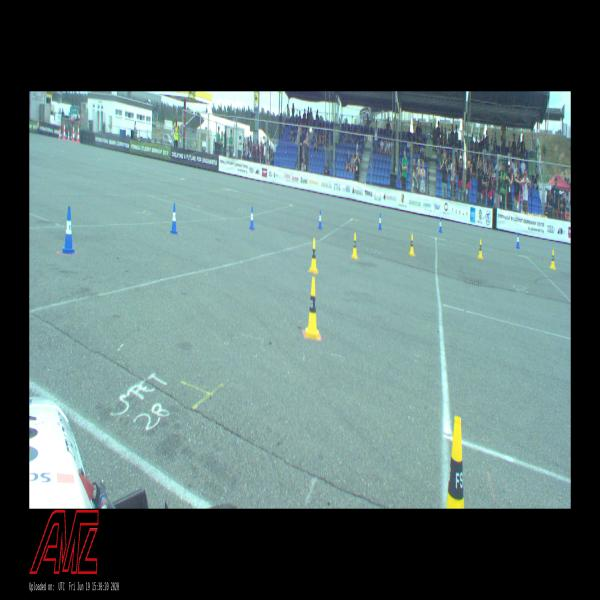blue_cone: (62, 206, 74, 254), (170, 203, 178, 234), (250, 206, 254, 230), (318, 210, 322, 229), (378, 213, 382, 230), (516, 233, 520, 248), (438, 218, 442, 233), (61, 132, 63, 139), (76, 134, 77, 142), (71, 133, 72, 140)
large_orange_cone: (77, 125, 80, 143), (72, 125, 75, 142), (63, 123, 66, 139), (67, 129, 70, 141), (58, 128, 60, 139)
orange_cone: (38, 120, 39, 128)
yellow_cone: (446, 416, 464, 508), (305, 277, 319, 340), (310, 238, 317, 273), (352, 233, 357, 259), (550, 249, 556, 269), (478, 239, 483, 259), (410, 234, 414, 256)
